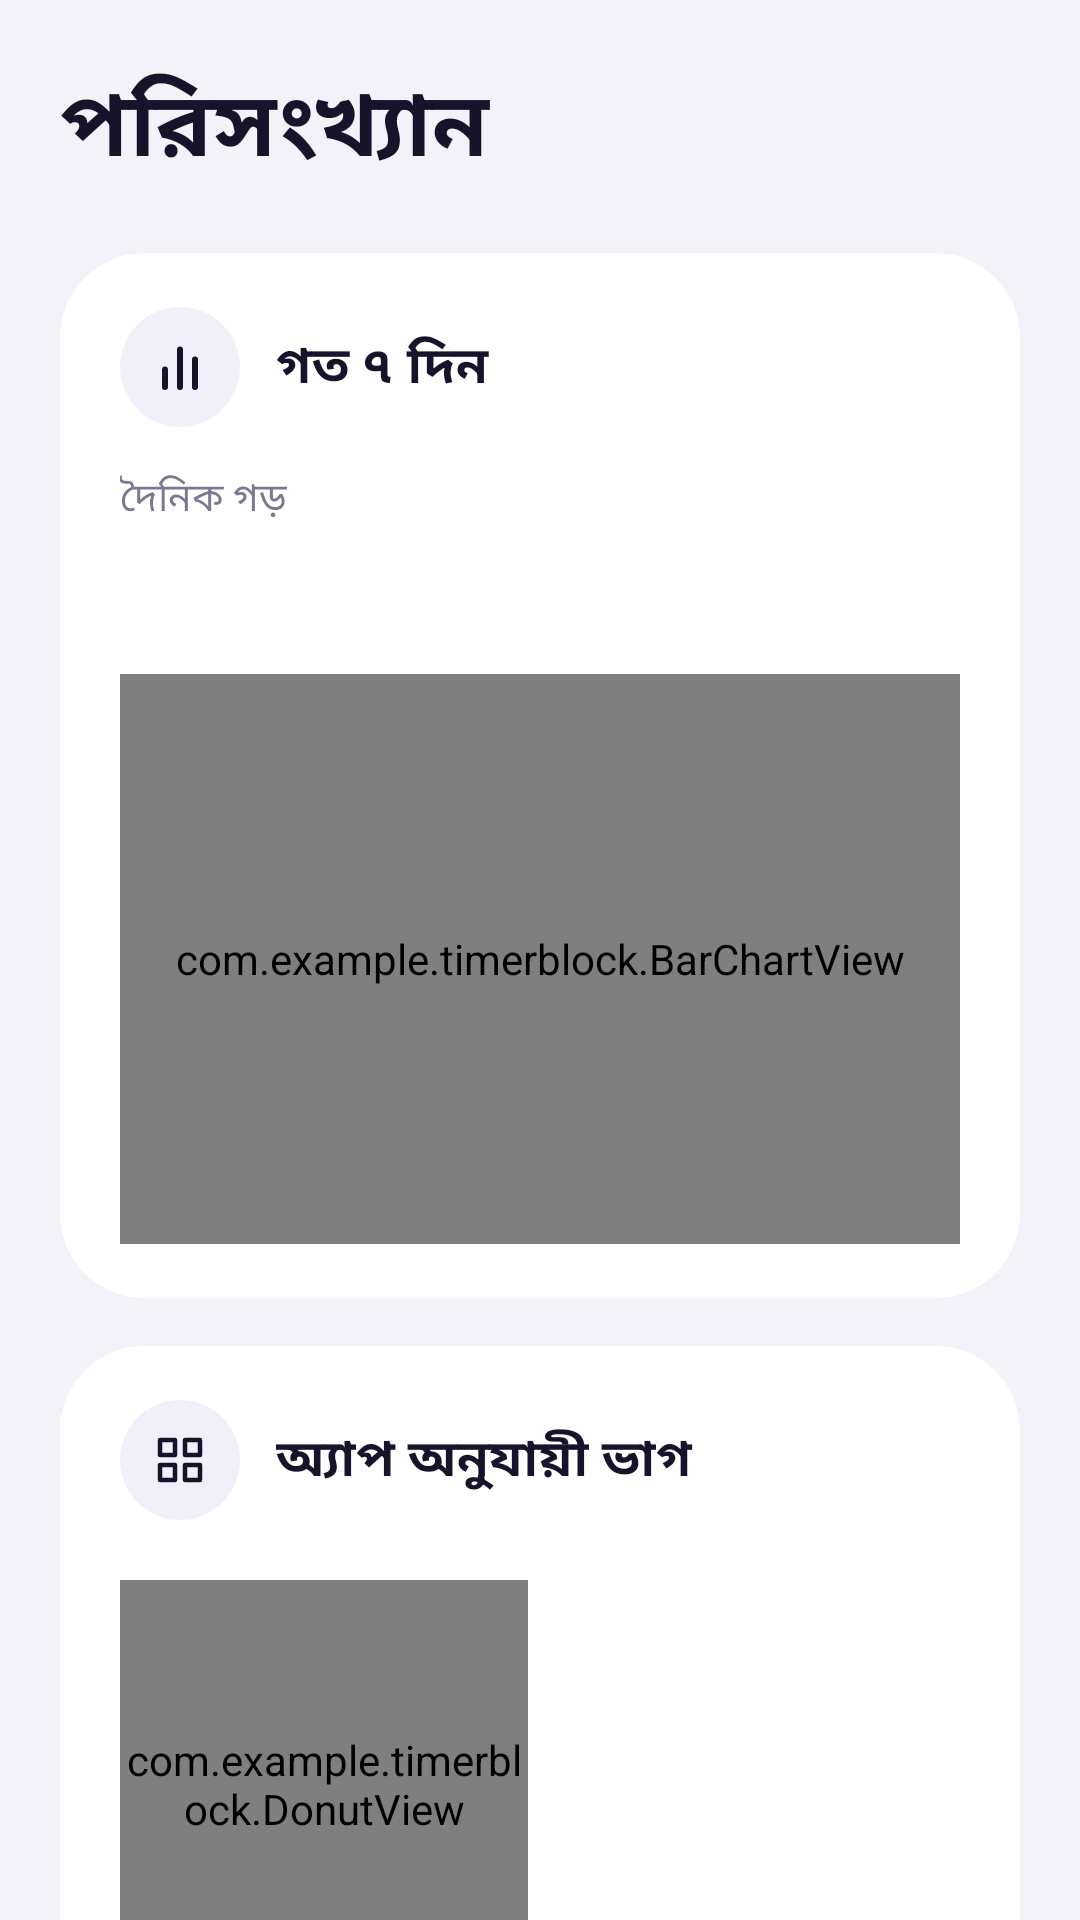

Locate icon controls on the screen. Image size 1080x1920, boxes as detection(x1, y1, x2, y2).
apps: detection(157, 1437, 203, 1483)
chart: detection(120, 307, 240, 427)
